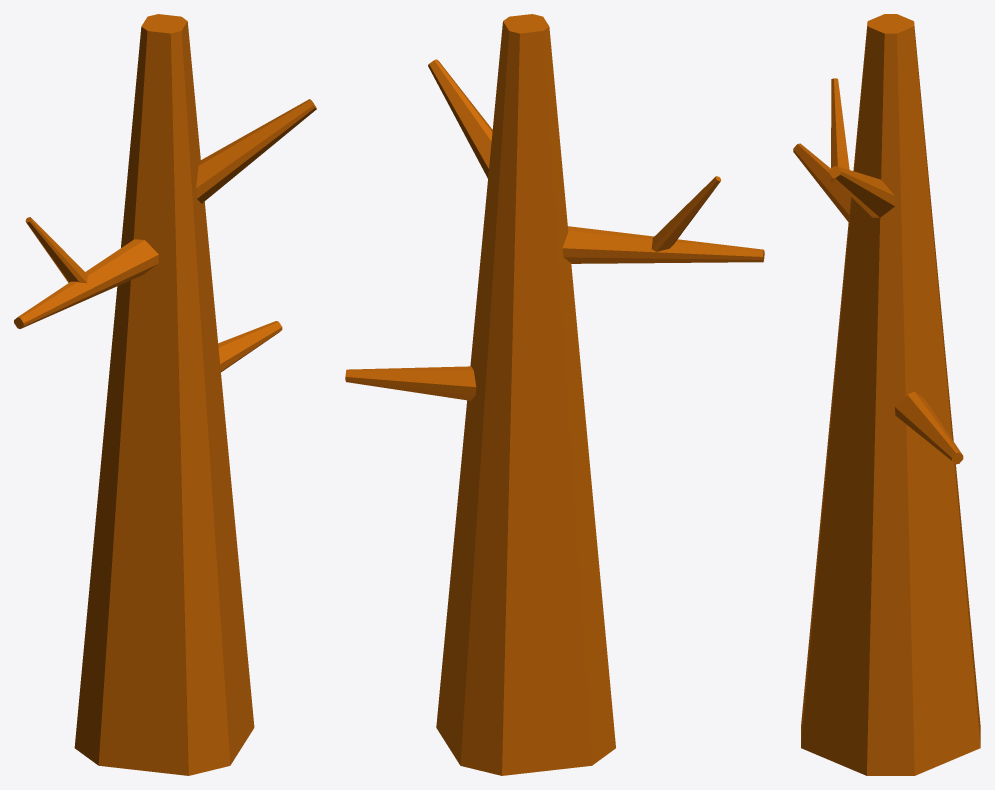
The model's file is TreeB2.fbx.
3 views of the same model, side by side, from view 1: azimuth 30°, elevation 25°; view 2: azimuth 150°, elevation 25°; view 3: azimuth 270°, elevation 25° (orthographic).
Parts seen in each view (by area): view 1: Cube.109; view 2: Cube.109; view 3: Cube.109.
Boxes of the visible parts, <box> form: Cube.109: <box>14,14,316,775</box>; Cube.109: <box>345,14,764,775</box>; Cube.109: <box>793,14,980,775</box>.
Size of the model in its own units: 4.39 by 8.76 by 2.09.
1 material, 1 textured.
